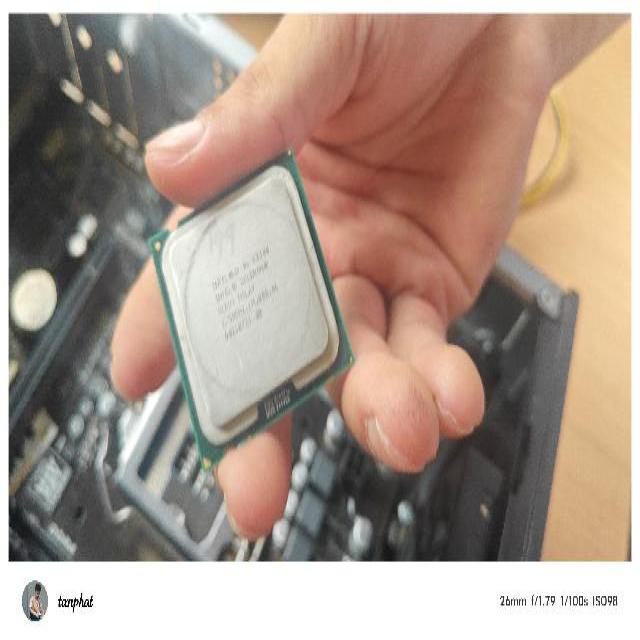CPU: (146, 144, 357, 474)
